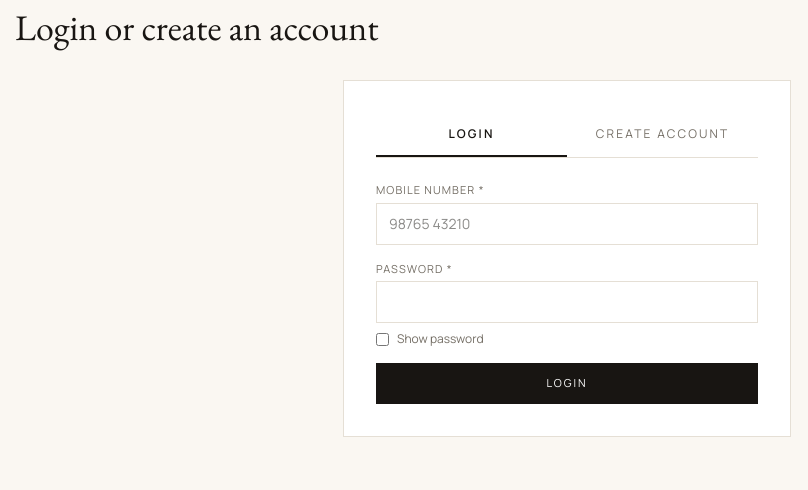
Scenario: AccountView › shows a helpful message when the server cannot be reached
Type "9876543210" into the field with placeholder "98765 43210" at x=567, y=224, box x1=376 y1=202 x2=758 y2=244
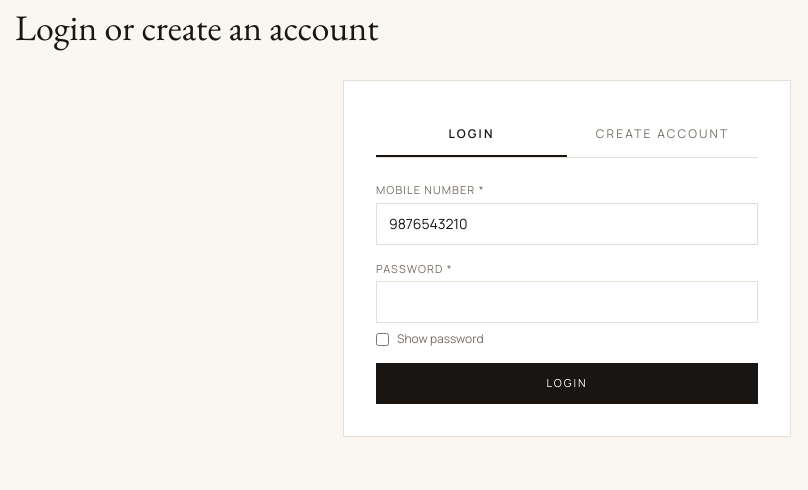
Type "password123" into the password field at x=567, y=302, box x1=376 y1=281 x2=758 y2=323
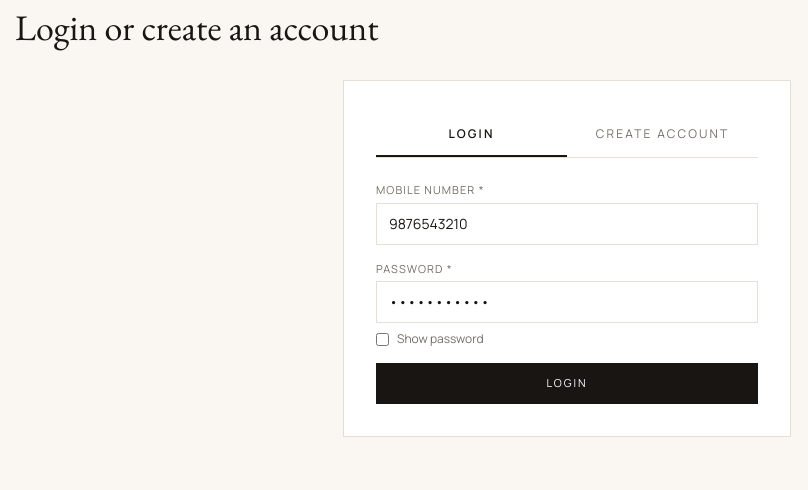
Submit the form with placeholder "98765 43210", box x1=376 y1=182 x2=758 y2=404
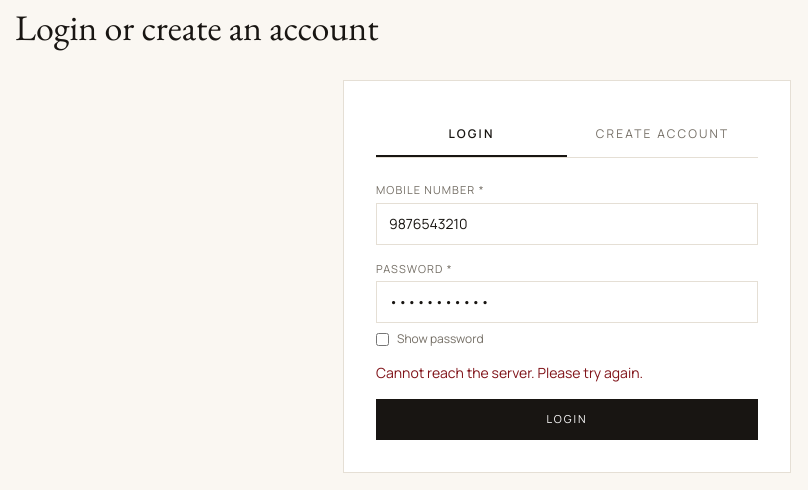
expect the text "Cannot reach the server. Please try again." is shown: met, box x1=376 y1=363 x2=643 y2=382
